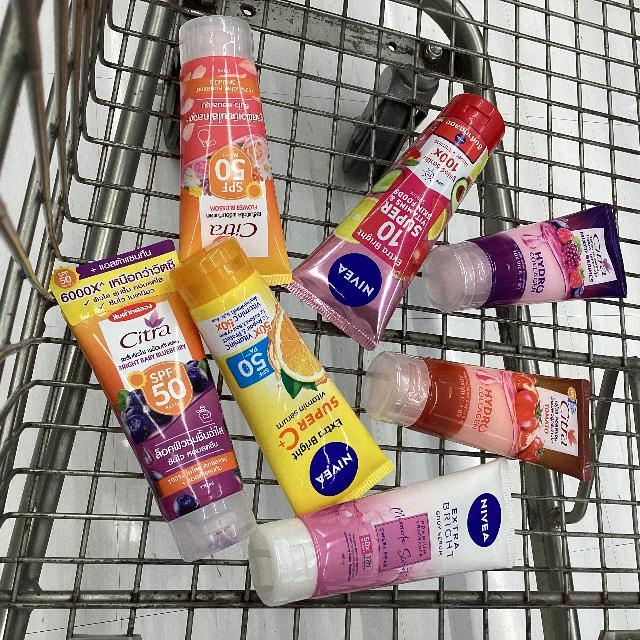Squeeze Tube: (27, 223, 279, 577), (159, 222, 419, 523), (271, 84, 519, 377), (240, 425, 554, 632), (168, 7, 301, 291), (355, 345, 606, 495), (415, 193, 635, 316)
